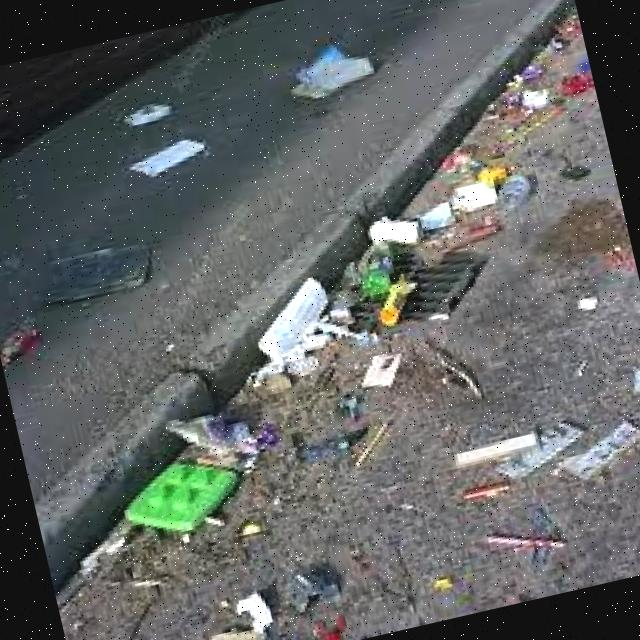curb: (332, 1, 569, 238), (179, 206, 377, 411), (38, 375, 214, 591)
